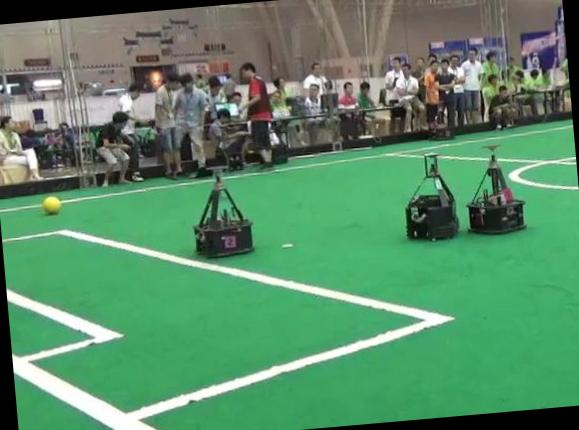ball: (41, 196, 60, 214)
person: (239, 62, 272, 168), (173, 74, 206, 169), (154, 74, 181, 178), (96, 112, 129, 186)
robot: (193, 176, 252, 256), (466, 153, 524, 233), (404, 153, 457, 239)
